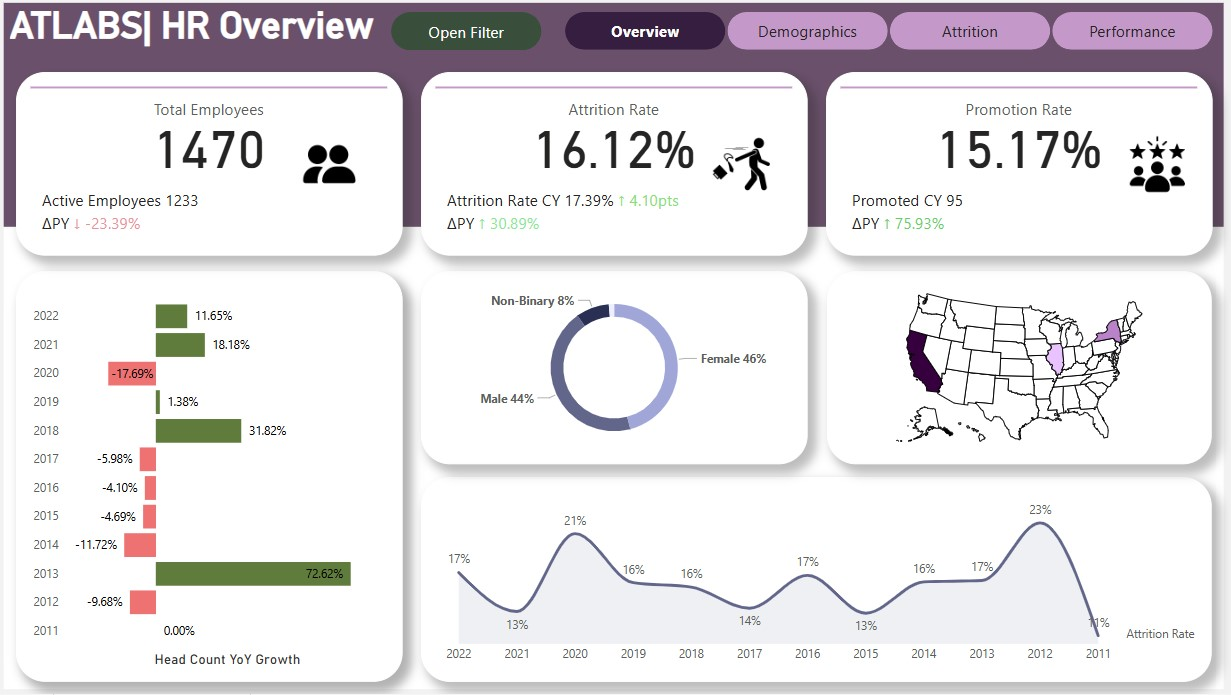

The page's visual inventory and layout, read from the dashboard file:
{"tool":"powerbi","page":{"name":"Overview","canvas":[1280,720],"ordinal":0},"visuals":[{"type":"image","title":"Background Image","box":[0,0,1280,719.6],"z":0},{"type":"actionButton","title":"Open Filter Button","box":[410,14.7,155.8,39.7],"z":0,"group":"g3"},{"type":"pageNavigator","box":[589.2,14.7,670,39.7],"z":250},{"type":"group","id":"g1","title":"Visuals","box":[10.3,0,1249,706.8],"z":500},{"type":"barChart","fields":{"Y":["_Measures.HeadCount YOY Growth"],"Category":["Calendar.FiscalYearNum"]},"box":[22.1,282.1,399.7,424.7],"z":2000,"group":"g1"},{"type":"lineChart","fields":{"Y":["_Measures.Attrition Rate"],"Category":["Calendar.FiscalYearNum"]},"box":[440.8,495.2,818.4,211.6],"z":3000,"group":"g1"},{"type":"donutChart","fields":{"Category":["Employee.Gender"],"Y":["CountNonNull(Employee.EmployeeID)"]},"box":[440.8,282.1,399.7,199.8],"z":4000,"group":"g1"},{"type":"shapeMap","fields":{"Category":["Employee.State"],"Value":["_Measures.Total Employees"]},"box":[861.1,282.1,398.2,199.8],"z":5000,"group":"g1"},{"type":"textbox","box":[10.3,0,411.4,69.1],"z":6000,"group":"g1"},{"type":"cardVisual","fields":{"Data":["_Measures.Attrition Rate"]},"box":[440.8,76.4,399.7,189.6],"z":7000,"group":"g1"},{"type":"group","id":"g2","title":"Icons","box":[311.5,130.8,925.7,82.3],"z":7000},{"type":"cardVisual","fields":{"Data":["_Measures.Total Employees"]},"box":[22.1,76.4,399.7,189.6],"z":8000,"group":"g1"},{"type":"cardVisual","fields":{"Data":["_Measures.Promotion Rate"]},"box":[859.6,76.4,399.7,189.6],"z":11000,"group":"g1"},{"type":"image","box":[737.6,130.8,69.1,82.3],"z":11250,"group":"g2"},{"type":"image","box":[311.5,130.8,69.1,82.3],"z":11500,"group":"g2"},{"type":"image","box":[1168.2,130.8,69.1,82.3],"z":12000,"group":"g2"},{"type":"group","id":"g3","title":"filter buttons","box":[410,14.7,155.8,39.7],"z":14000}]}

Visuals, with their boxes in screenshot pixels (x1, y1, x2, y2), scaled from the page's 1280x720 canvas onto the 1231x695 screenshot:
"Background Image" image: (left=0, top=0, right=1230, bottom=694)
"Open Filter Button" actionButton: (left=394, top=14, right=544, bottom=53)
pageNavigator: (left=567, top=14, right=1211, bottom=53)
"Visuals" group: (left=10, top=0, right=1211, bottom=682)
barChart - _Measures.HeadCount YOY Growth x Calendar.FiscalYearNum: (left=21, top=272, right=406, bottom=682)
lineChart - _Measures.Attrition Rate x Calendar.FiscalYearNum: (left=424, top=478, right=1211, bottom=682)
donutChart - Employee.Gender x CountNonNull(Employee.EmployeeID): (left=424, top=272, right=808, bottom=465)
shapeMap - Employee.State x _Measures.Total Employees: (left=828, top=272, right=1211, bottom=465)
textbox: (left=10, top=0, right=406, bottom=67)
cardVisual - _Measures.Attrition Rate: (left=424, top=74, right=808, bottom=257)
"Icons" group: (left=300, top=126, right=1190, bottom=206)
cardVisual - _Measures.Total Employees: (left=21, top=74, right=406, bottom=257)
cardVisual - _Measures.Promotion Rate: (left=827, top=74, right=1211, bottom=257)
image: (left=709, top=126, right=776, bottom=206)
image: (left=300, top=126, right=366, bottom=206)
image: (left=1123, top=126, right=1190, bottom=206)
"filter buttons" group: (left=394, top=14, right=544, bottom=53)
